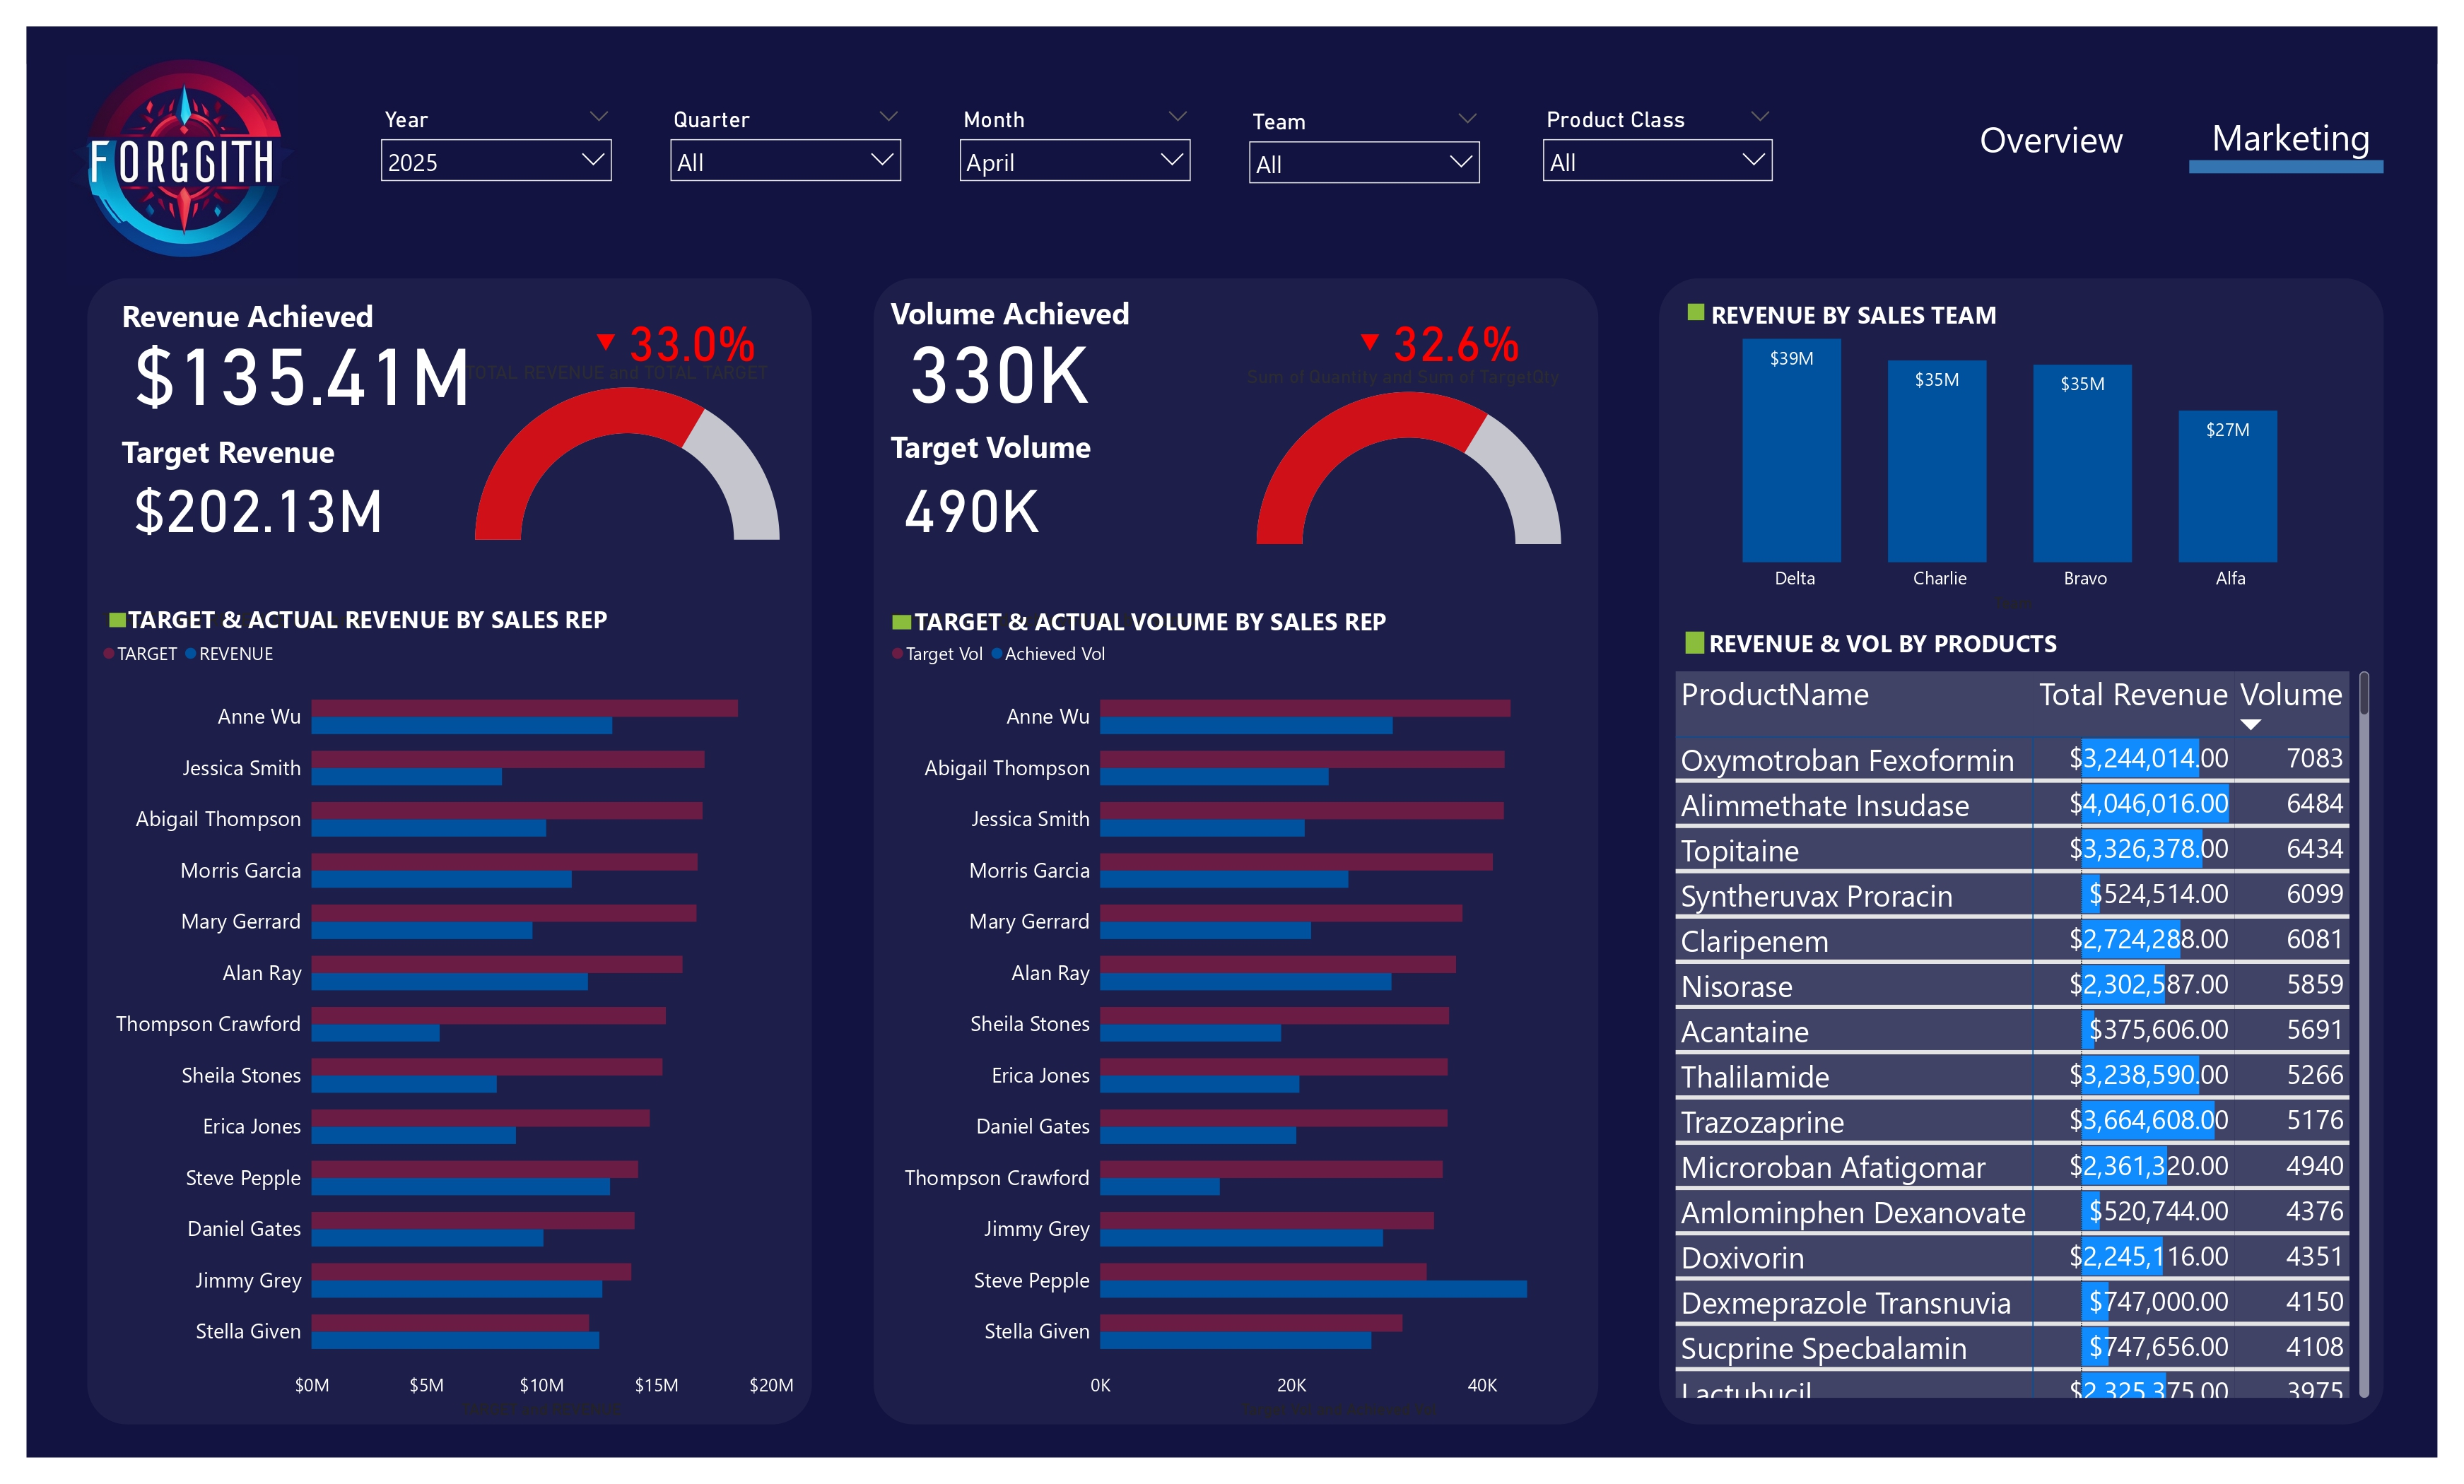

Layout of this report page (visuals, bound fields, positions):
{"tool":"powerbi","page":{"name":"Marketing","canvas":[2183,1296],"ordinal":1},"visuals":[{"type":"gauge","fields":{"MaxValue":["FactsTargets.TargetQty"],"Y":["FactSales.Quantity"]},"box":[1099.8,307.2,303.2,166.5],"z":0},{"type":"gauge","fields":{"MaxValue":["Measure.TOTAL TARGET"],"Y":["Measure.TOTAL REVENUE"]},"box":[392.4,303.2,303.2,166.5],"z":1000},{"type":"image","box":[32.5,16.2,218,226.6],"z":2000},{"type":"slicer","fields":{"Values":["Calendar.Year"]},"box":[311.2,67.2,228.4,77],"z":3000},{"type":"slicer","fields":{"Values":["Calendar.Quarter"]},"box":[573.2,67.2,228.4,77],"z":4000},{"type":"slicer","fields":{"Values":["Calendar.Month Name"]},"box":[835.1,67.2,228.4,77],"z":5000},{"type":"slicer","fields":{"Values":["DimEmployees.Team"]},"box":[1097.1,69.4,228.4,77],"z":6000},{"type":"actionButton","box":[1755.8,74.8,154.8,43.9],"z":7000},{"type":"actionButton","box":[1967,68.5,167.3,58.6],"z":8000},{"type":"shape","box":[1957.9,120.9,176.4,11.9],"z":9000},{"type":"shape","box":[55.5,227.9,655.9,1038.4],"z":10000},{"type":"shape","box":[766.9,227.9,655.9,1038.4],"z":11000},{"type":"shape","box":[1478.3,227.9,655.9,1038.4],"z":12000},{"type":"pivotTable","fields":{"Rows":["DimProducts.ProductName"],"Values":["Measure.TOTAL REVENUE","FactSales.Quantity"]},"box":[1488.2,579.4,638.1,667.8],"z":13000},{"type":"columnChart","fields":{"Category":["DimEmployees.Team"],"Y":["Measure.TOTAL REVENUE"]},"box":[1496.2,263.6,604.4,271.5],"z":14000},{"type":"cardVisual","fields":{"Data":["Measure.TOTAL TARGET"]},"box":[79.3,358.7,342.8,150.6],"z":15000},{"type":"cardVisual","fields":{"Data":["Measure.TOTAL REVENUE"]},"box":[79.3,237.8,545,150.6],"z":16000},{"type":"textbox","box":[81.2,237.8,273.5,57.5],"z":17000},{"type":"textbox","box":[81.2,360.7,273.5,57.5],"z":18000},{"type":"card","fields":{"Values":["Measure.REVENUE VS TARGET"]},"box":[453.8,206.1,257.6,152.6],"z":19000},{"type":"cardVisual","fields":{"Data":["FactsTargets.TargetQty"]},"box":[776.8,358.7,342.8,150.6],"z":20000},{"type":"cardVisual","fields":{"Data":["FactSales.Quantity"]},"box":[780.8,235.8,545,150.6],"z":21000},{"type":"textbox","box":[776.8,235.8,273.5,57.5],"z":22000},{"type":"textbox","box":[776.8,356.7,273.5,57.5],"z":23000},{"type":"clusteredBarChart","fields":{"Category":["DimEmployees.Name"],"Y":["FactsTargets.TargetQty","FactSales.Quantity"]},"box":[776.8,527.1,646,739.2],"z":24000},{"type":"clusteredBarChart","fields":{"Y":["Measure.TOTAL TARGET","Measure.TOTAL REVENUE"],"Category":["DimEmployees.Name"]},"box":[63.4,527.1,636.1,739.2],"z":25000},{"type":"card","fields":{"Values":["Measure.VOL ACHIEVED VS VOL TARGET"]},"box":[1145.4,206.1,257.6,152.6],"z":26000},{"type":"slicer","fields":{"Values":["DimProducts.ProductClass"]},"box":[1363.4,67.4,227.9,77.3],"z":27000},{"type":"textbox","box":[87.2,517.2,537,53.5],"z":28000},{"type":"shape","box":[75,531.3,15,12.9],"z":29000},{"type":"textbox","box":[799.5,519.3,537,53.5],"z":30000},{"type":"shape","box":[784,533.4,17.1,12.9],"z":31000},{"type":"textbox","box":[1519.7,240.8,537,53.5],"z":32000},{"type":"shape","box":[1503.8,250.6,15,15],"z":33000},{"type":"textbox","box":[1518.1,538.8,537,53.5],"z":34000},{"type":"shape","box":[1501.6,548.4,17.1,19.3],"z":35000}]}

Visuals, with their boxes on the page's 2183x1296 design canvas (x1, y1, x2, y2). These are canvas units, not pixel positions in the 2464x1484 screenshot, which may show the page scaled, cropped or inside an application window:
gauge - FactsTargets.TargetQty x FactSales.Quantity: box=[1100, 307, 1403, 474]
gauge - Measure.TOTAL TARGET x Measure.TOTAL REVENUE: box=[392, 303, 696, 470]
image: box=[32, 16, 250, 243]
slicer - Calendar.Year: box=[311, 67, 540, 144]
slicer - Calendar.Quarter: box=[573, 67, 802, 144]
slicer - Calendar.Month Name: box=[835, 67, 1064, 144]
slicer - DimEmployees.Team: box=[1097, 69, 1326, 146]
actionButton: box=[1756, 75, 1911, 119]
actionButton: box=[1967, 68, 2134, 127]
shape: box=[1958, 121, 2134, 133]
shape: box=[56, 228, 711, 1266]
shape: box=[767, 228, 1423, 1266]
shape: box=[1478, 228, 2134, 1266]
pivotTable - DimProducts.ProductName x Measure.TOTAL REVENUE: box=[1488, 579, 2126, 1247]
columnChart - DimEmployees.Team x Measure.TOTAL REVENUE: box=[1496, 264, 2101, 535]
cardVisual - Measure.TOTAL TARGET: box=[79, 359, 422, 509]
cardVisual - Measure.TOTAL REVENUE: box=[79, 238, 624, 388]
textbox: box=[81, 238, 355, 295]
textbox: box=[81, 361, 355, 418]
card - Measure.REVENUE VS TARGET: box=[454, 206, 711, 359]
cardVisual - FactsTargets.TargetQty: box=[777, 359, 1120, 509]
cardVisual - FactSales.Quantity: box=[781, 236, 1326, 386]
textbox: box=[777, 236, 1050, 293]
textbox: box=[777, 357, 1050, 414]
clusteredBarChart - DimEmployees.Name x FactsTargets.TargetQty: box=[777, 527, 1423, 1266]
clusteredBarChart - Measure.TOTAL TARGET x Measure.TOTAL REVENUE: box=[63, 527, 700, 1266]
card - Measure.VOL ACHIEVED VS VOL TARGET: box=[1145, 206, 1403, 359]
slicer - DimProducts.ProductClass: box=[1363, 67, 1591, 145]
textbox: box=[87, 517, 624, 571]
shape: box=[75, 531, 90, 544]
textbox: box=[800, 519, 1336, 573]
shape: box=[784, 533, 801, 546]
textbox: box=[1520, 241, 2057, 294]
shape: box=[1504, 251, 1519, 266]
textbox: box=[1518, 539, 2055, 592]
shape: box=[1502, 548, 1519, 568]
